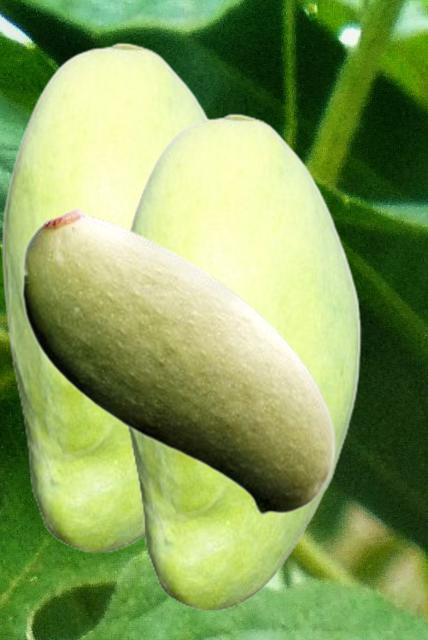green_mango: (123, 113, 360, 610), (1, 42, 211, 552), (21, 206, 335, 515)
